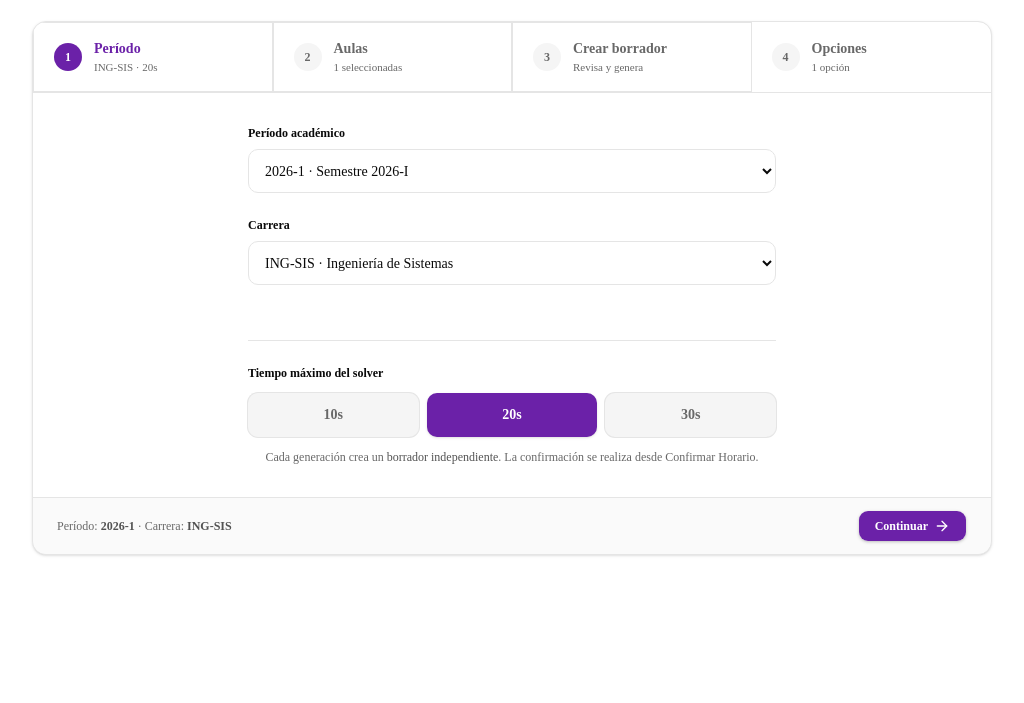
Test: GenerateScheduleScreen › vuelve al paso 3 desde el paso 4
The image size is (1024, 703).
Select "2026-1 · Semestre 2026-I" in the dropdown named "Período académico": (512, 171) [248, 149, 776, 193]
Select "ING-SIS · Ingeniería de Sistemas" in the dropdown named "Carrera": (512, 263) [248, 241, 776, 285]
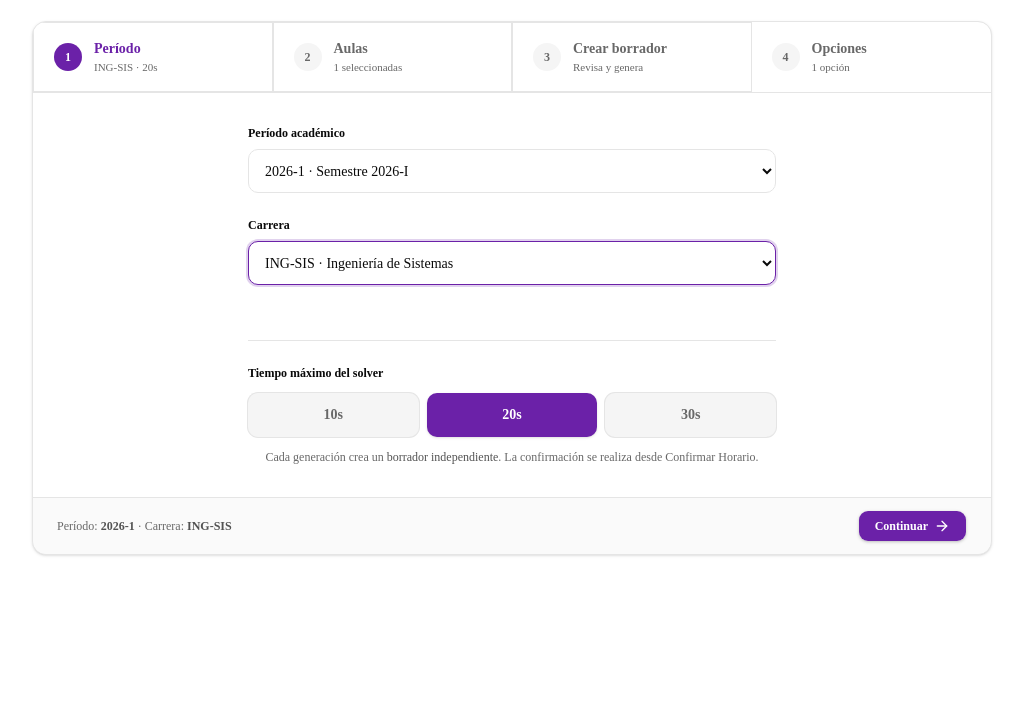
Click the button "Continuar": (912, 526) [858, 510, 967, 542]
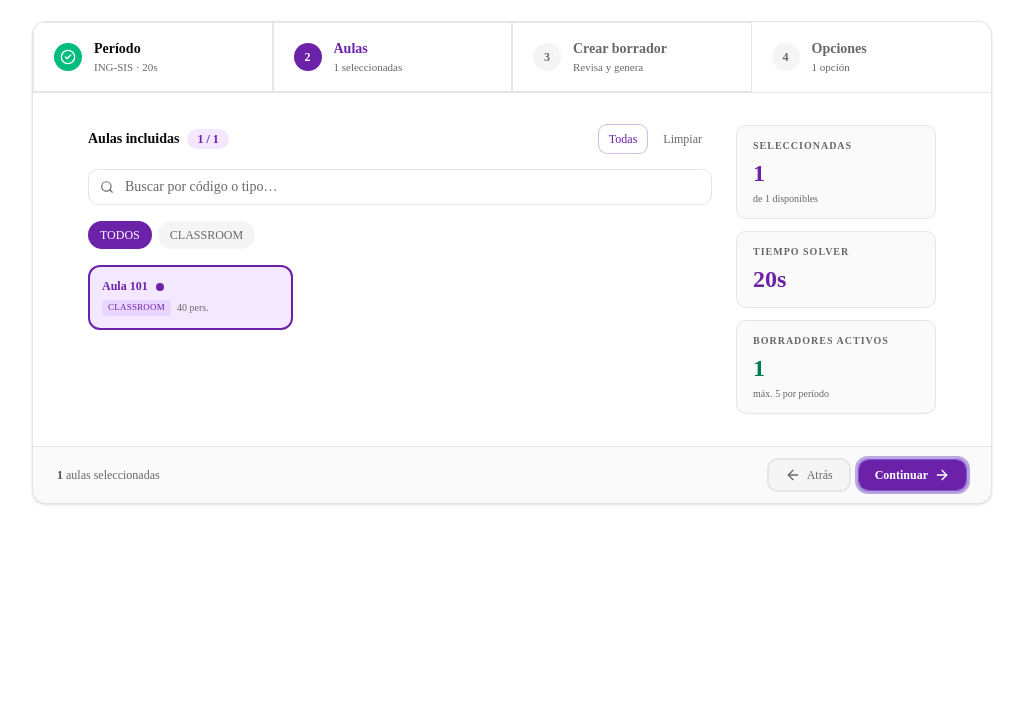
Expected: the text "Aulas incluidas" is shown, [88, 129, 179, 149]
Click the button "Todas": (623, 139) [599, 125, 647, 153]
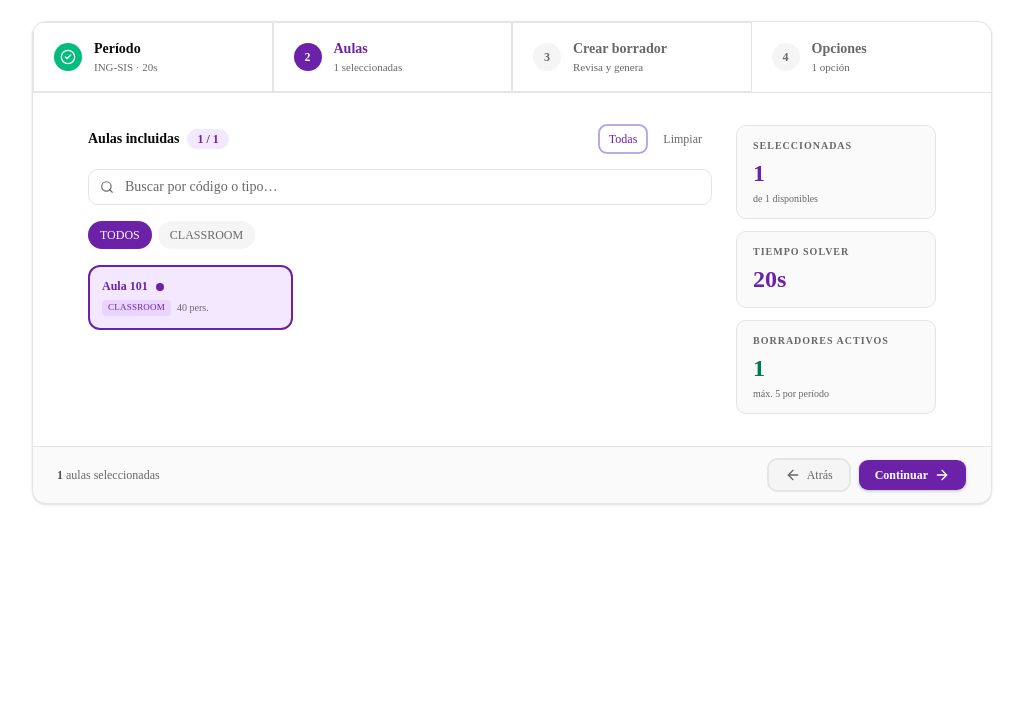
Click the button "Continuar": (912, 475) [858, 459, 967, 491]
(page scrolled)
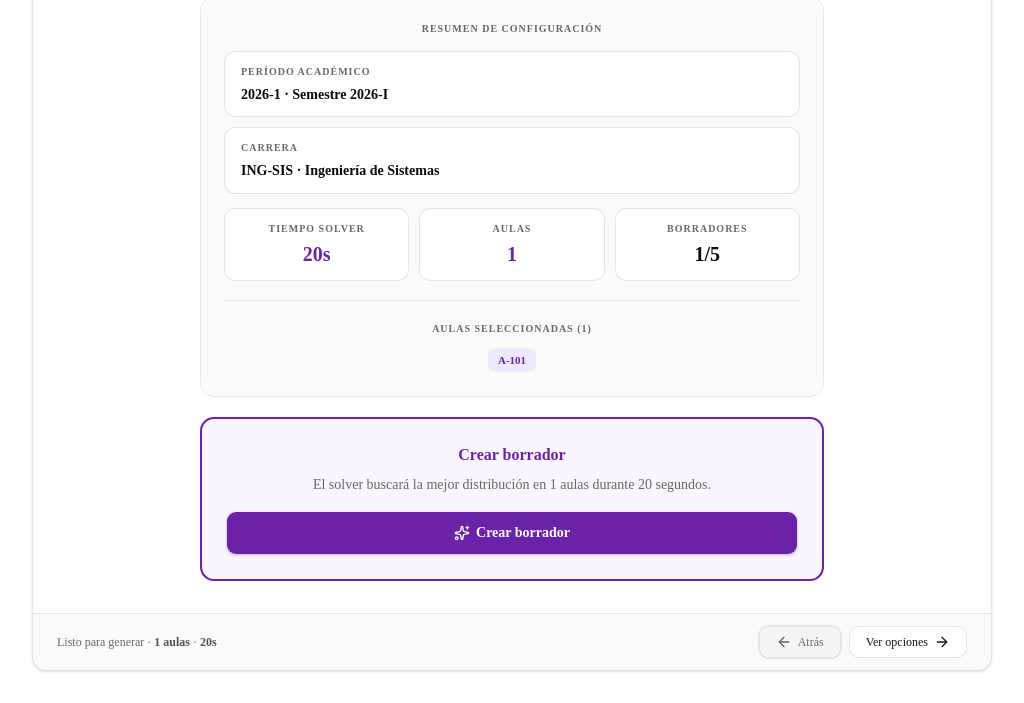
Expected: the text "Resumen de configuración" is shown, [422, 23, 602, 34]
Click the button "Ver opciones": (908, 642) [849, 626, 967, 658]
(page scrolled)
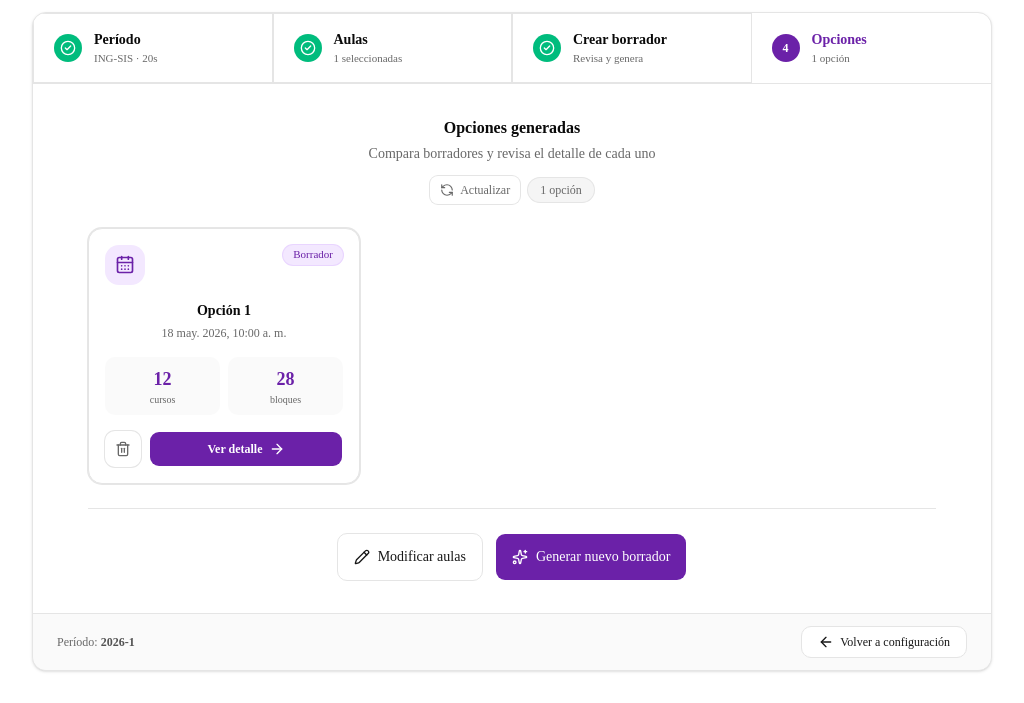
Expected: the heading "Opciones generadas" is shown, [444, 119, 580, 136]
Click the button "Volver a configuración": (884, 642) [801, 626, 967, 658]
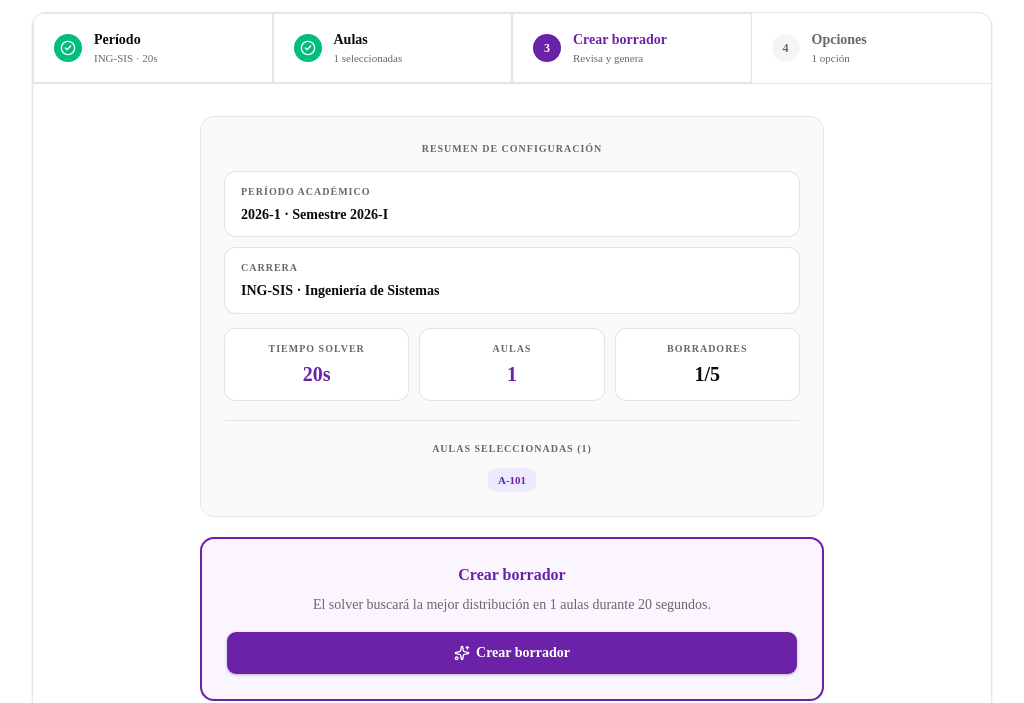
Expected: the text "Resumen de configuración" is shown, [422, 143, 602, 154]
